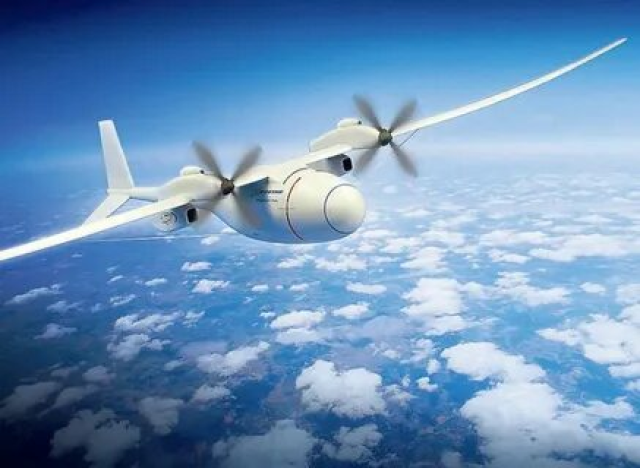military drone: (0, 37, 628, 262)
